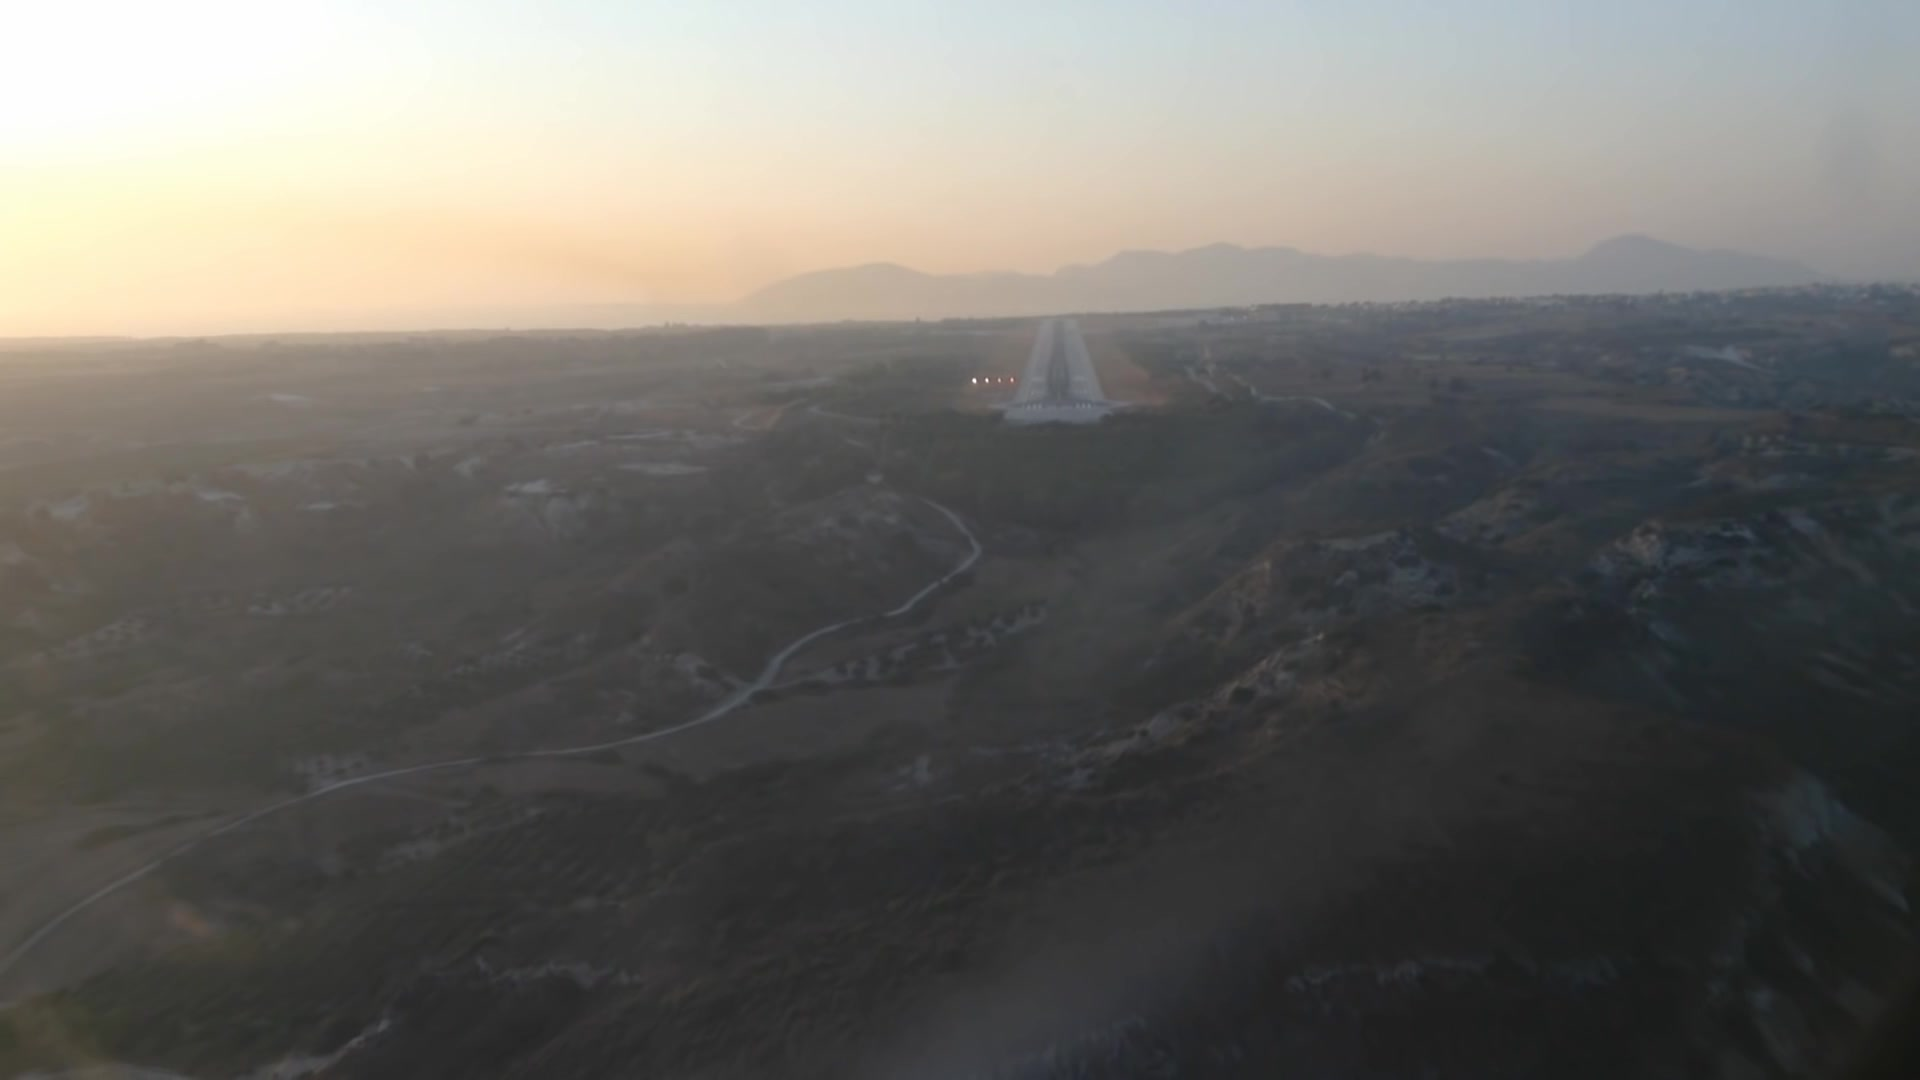entrance: (1019, 400, 1098, 411)
runway: (1015, 319, 1106, 415)
